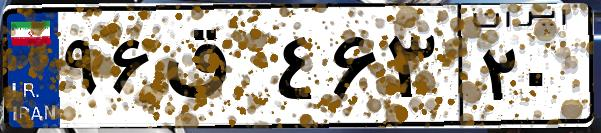0: (525, 38, 570, 115)
2: (475, 38, 525, 113)
3: (385, 28, 445, 110)
4: (270, 28, 330, 110)
6: (330, 28, 385, 110), (110, 28, 158, 98)
9: (57, 26, 110, 100)
ق: (158, 20, 270, 120)
